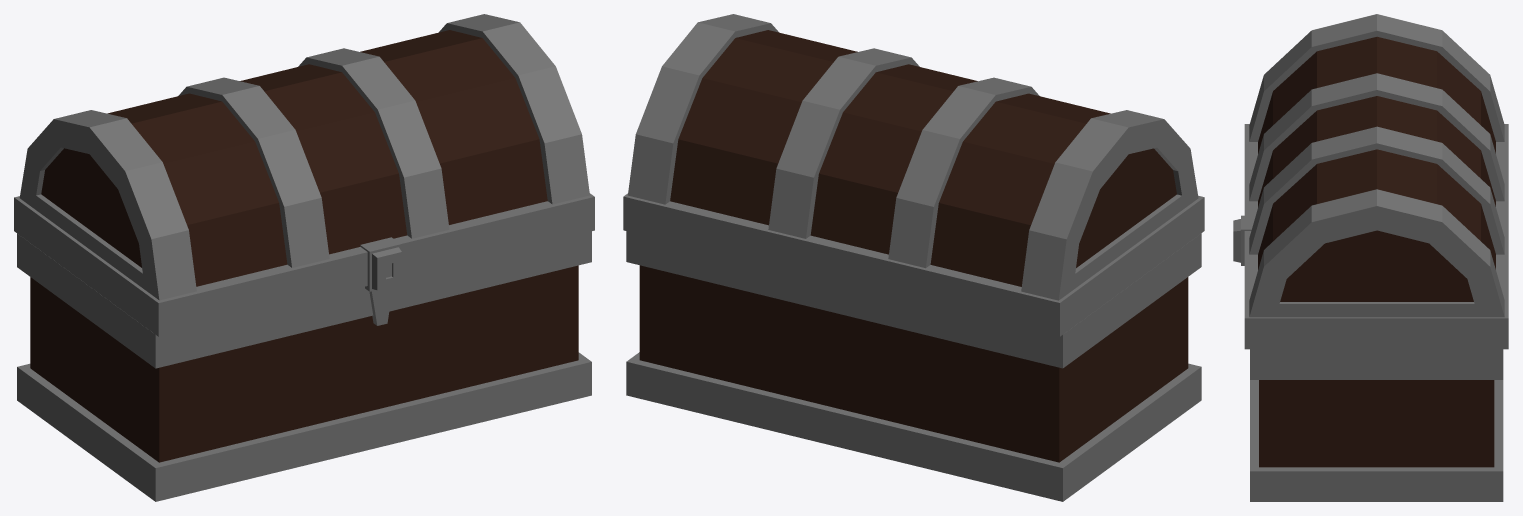
The model's file is SM_chest_full_02.fbx.
3 renders of one model, left to right at view 1: azimuth 30°, elevation 25°; view 2: azimuth 150°, elevation 25°; view 3: azimuth 270°, elevation 25°, orthographic. The views are drawn at different scales.
Visible parts, largest first — view 1: Cylinder045; view 2: Cylinder045; view 3: Cylinder045.
Part boxes in pixels (bbox=[...]): Cylinder045: bbox=[14, 14, 594, 501]; Cylinder045: bbox=[623, 14, 1204, 501]; Cylinder045: bbox=[1233, 14, 1508, 501].
Bounding box in the file's own units: 52.66 × 37.25 × 31.51.
